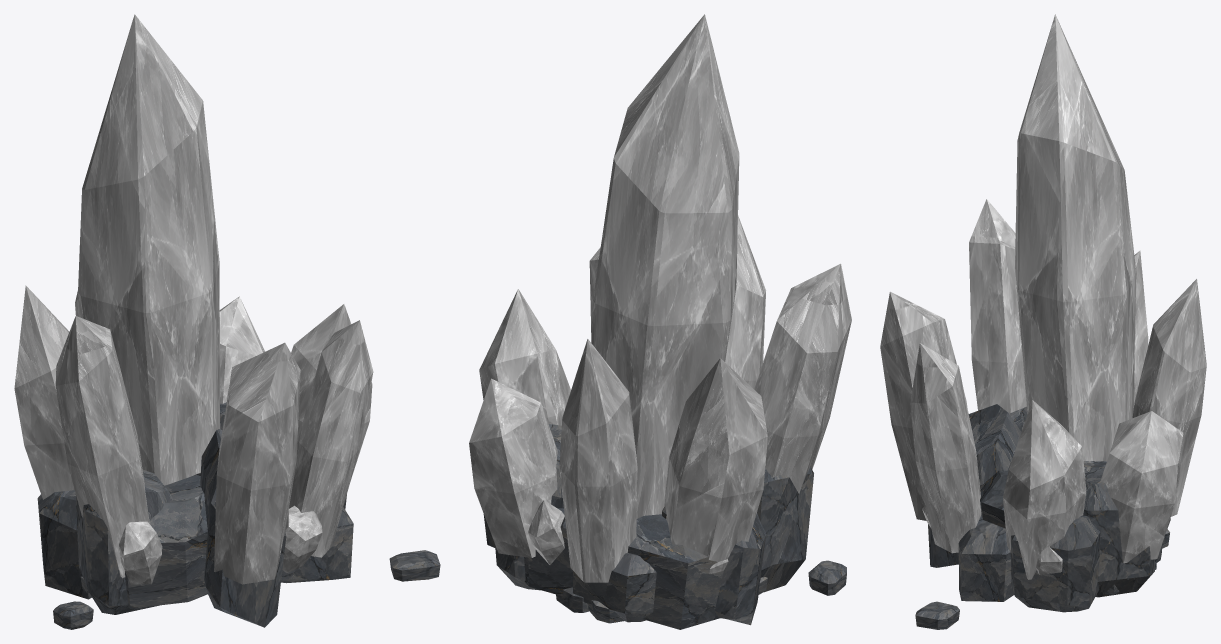
File: Ore_B2.fbx
The picture shows the model from 3 angles, left to right: view 1: azimuth 30°, elevation 25°; view 2: azimuth 150°, elevation 25°; view 3: azimuth 270°, elevation 25°; orthographic projection. The views are drawn at different scales.
Visible parts, largest first — view 1: Ore_B2_LOD0; view 2: Ore_B2_LOD0; view 3: Ore_B2_LOD0.
Part boxes in pixels (x1,y1,x2,y2): Ore_B2_LOD0: (14,14,440,629); Ore_B2_LOD0: (469,14,851,629); Ore_B2_LOD0: (880,14,1206,629).
Size of what is drawn, in the model's own units: 1.32 by 2.13 by 1.2.
Materials: 2 (2 with a texture image).
